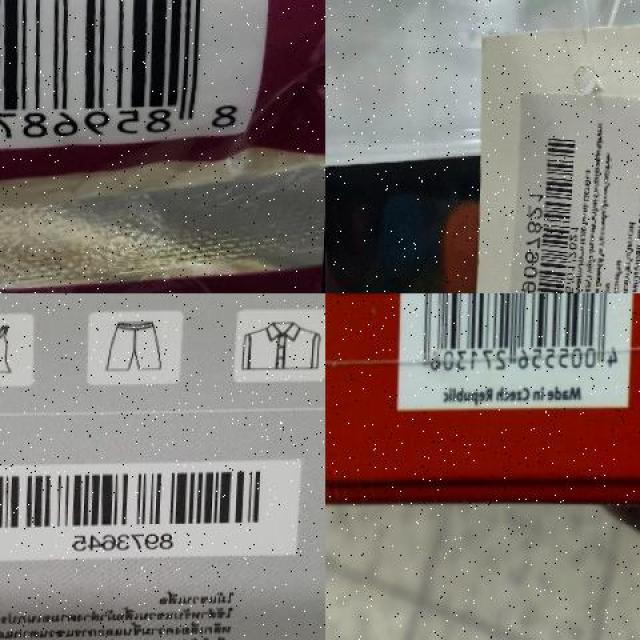Barcode: (0, 0, 247, 140), (0, 461, 273, 554), (403, 294, 625, 382), (519, 130, 580, 294)
